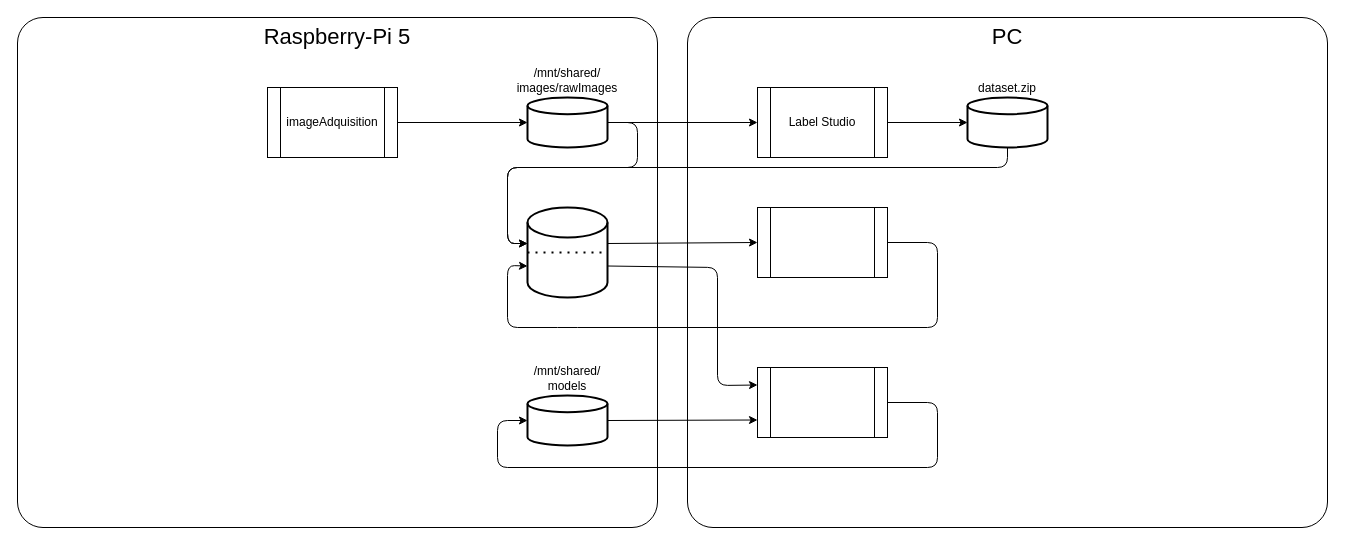
This 1345x545 diagram has some shape labels left out. Each missing label, with the centre of its shape:
"/mnt/shared/ datasets" belongs at point (567, 252).
"splitDataset" belongs at point (822, 242).
"trainModel" belongs at point (822, 402).
